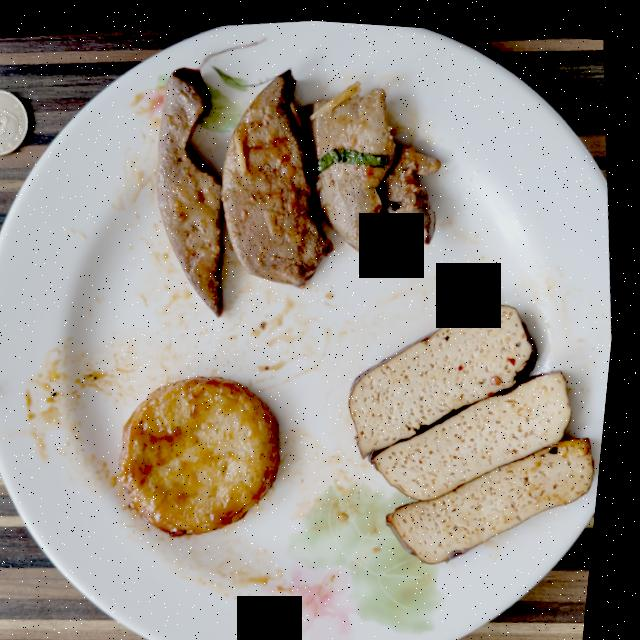coin: (0, 88, 30, 155)
firm tofu: (356, 296, 602, 556)
fish cake: (128, 371, 287, 532)
pig liver: (159, 63, 443, 311)
